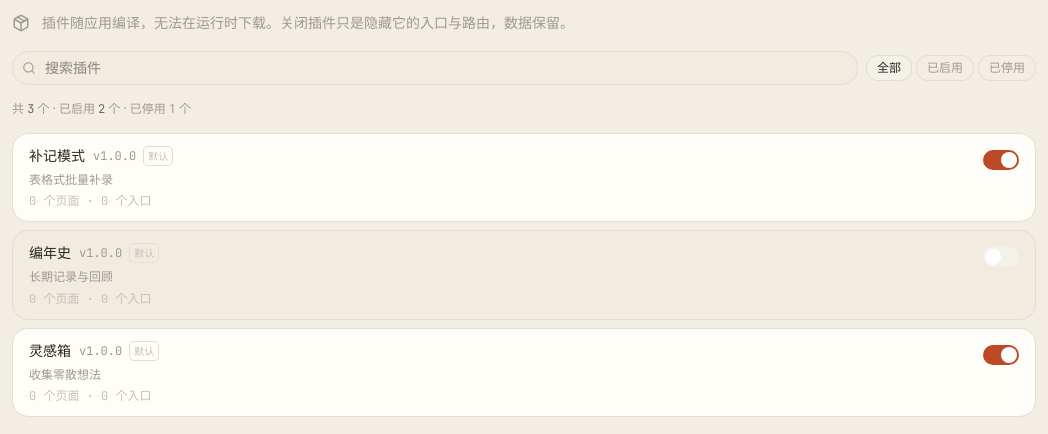
Test: SettingsPlugins — 搜索与筛选 › 筛选「已停用」只留停用的插件
Click the radio button labelled "已停用": {"x": 1007, "y": 68} [978,55,1036,81]
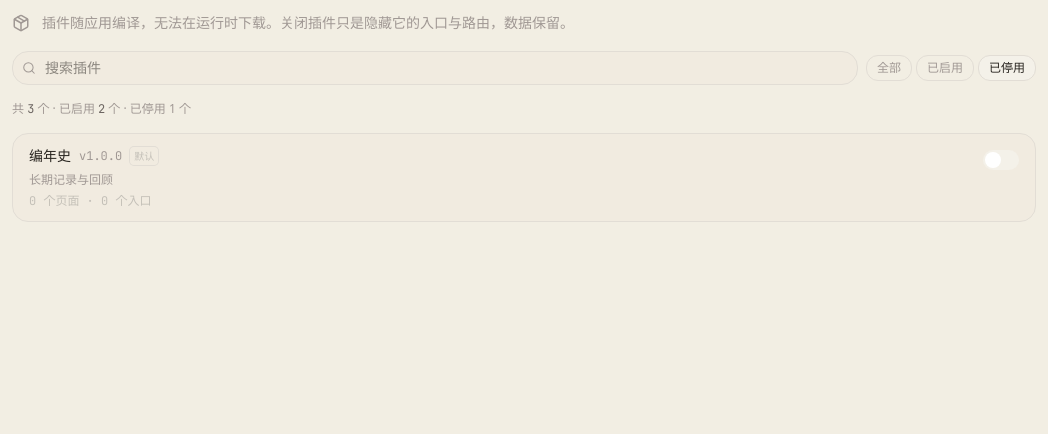
Expected: the text "编年史" is shown, [29,146,71,166]
Expected: the text "补记模式" is gone
